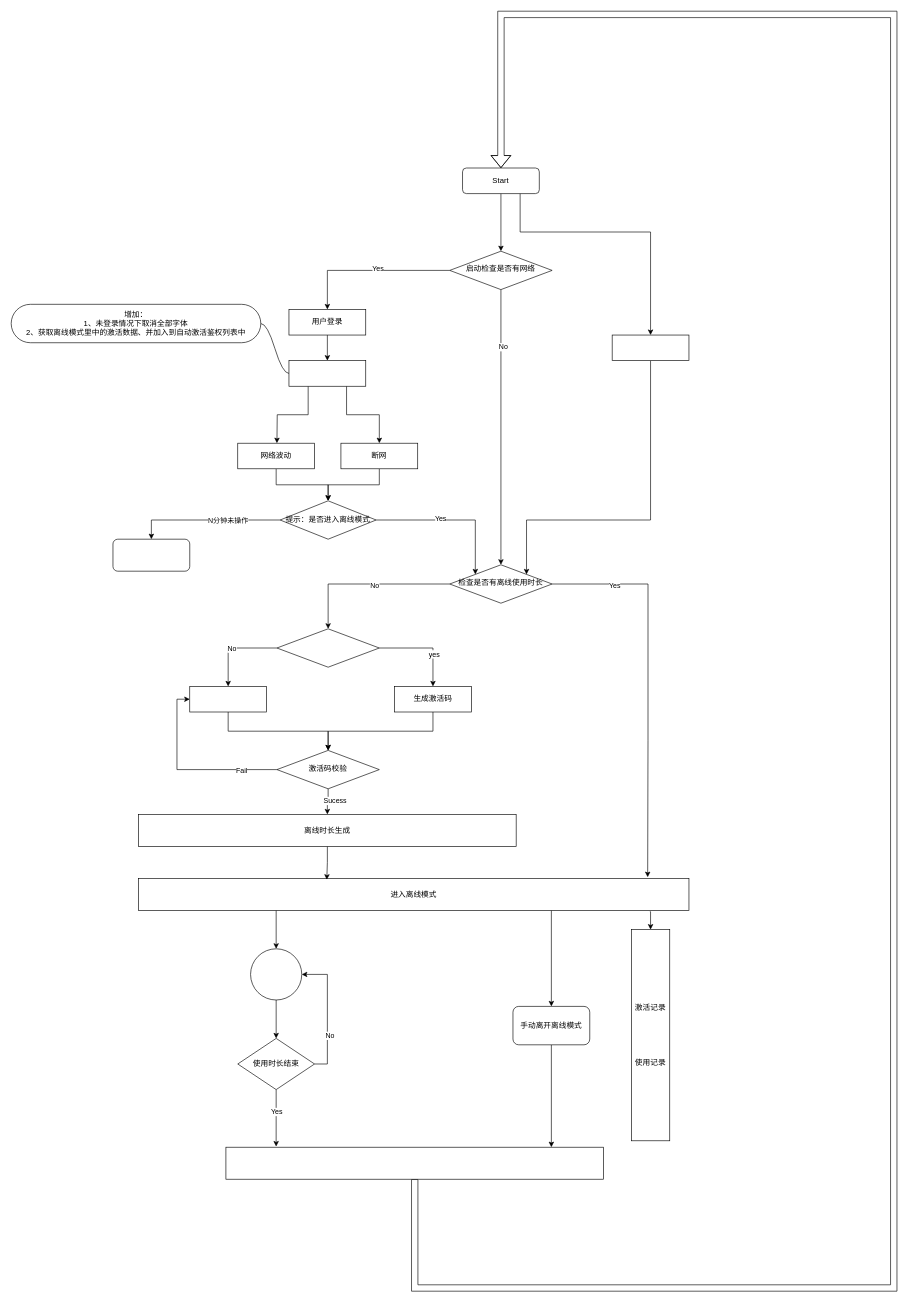
Image size: 908x1302. Some labels were removed from this diagram. Each missing label, with the centre of its shape:
取消激活全部字体: the point at 151,555
手动触发离线模式: the point at 650,347
是否可自动生成激活码: the point at 327,647
离线模式结束: the point at 414,1163
维护使用时长: the point at 276,974
自动激活: the point at 327,373
触发激活码弹窗: the point at 228,699
